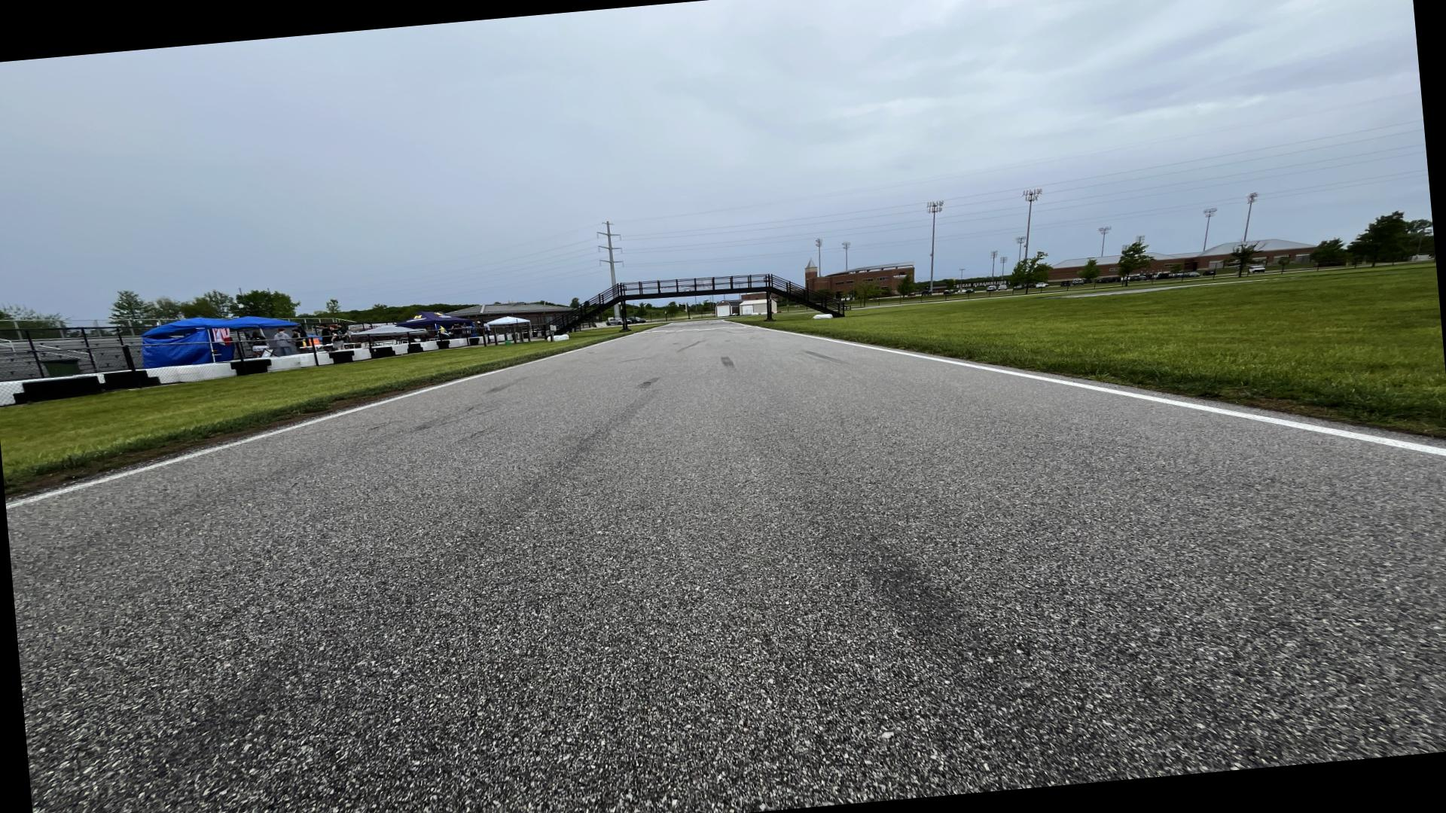white-line: (6, 336, 628, 510), (755, 327, 1445, 456), (640, 323, 672, 332), (723, 321, 749, 326)
